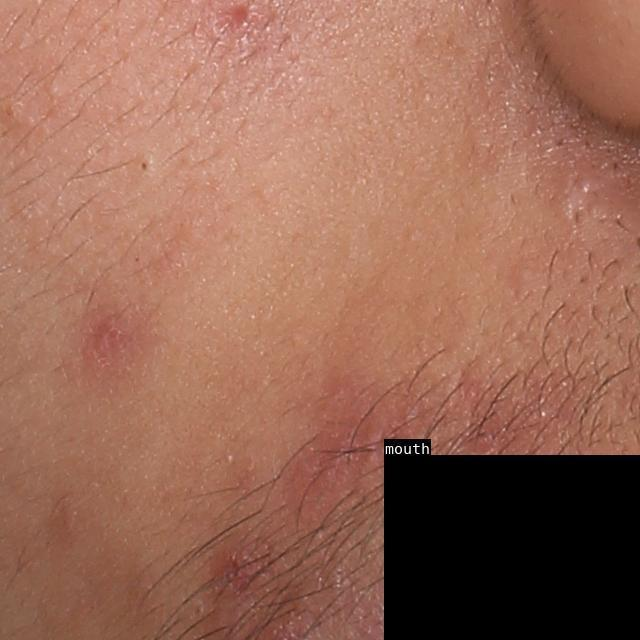comedo: (132, 152, 159, 181), (49, 81, 64, 102)
